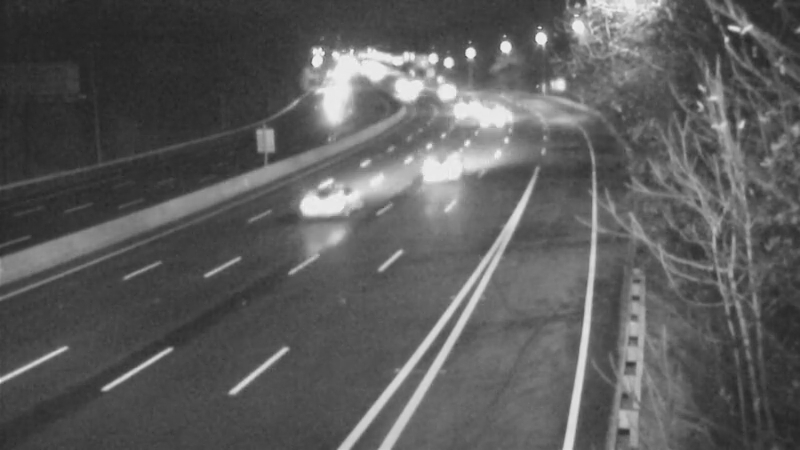vehicle: (406, 120, 486, 200), (289, 162, 369, 242), (423, 64, 473, 114), (382, 74, 432, 124), (433, 81, 483, 131), (461, 90, 511, 140)
